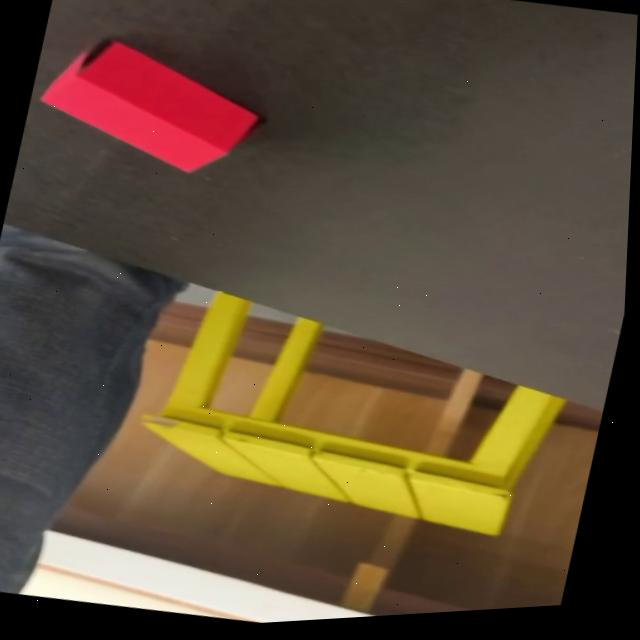red block: (23, 19, 272, 193)
